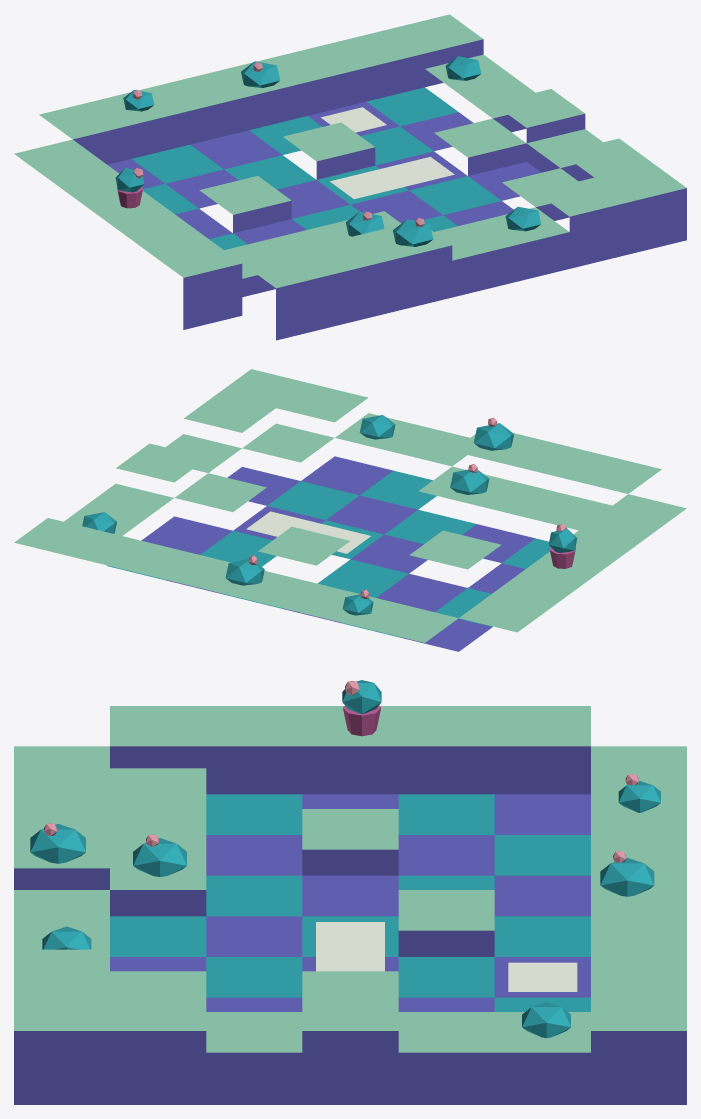
File: room4.glb
The picture shows the model from 3 angles, top to bottom: view 1: azimuth 30°, elevation 25°; view 2: azimuth 150°, elevation 25°; view 3: azimuth 270°, elevation 25°; orthographic projection. The views are drawn at different scales.
Visible parts, largest first — view 1: Room, Bush1, Bush5, Bush2, Bush6, Bush0, PotLeaf3; view 2: Room, Bush1, Bush0, Bush5, Bush6, PotLeaf3, Bush2, Bush4; view 3: Room, Bush5, Bush1, Bush0, Bush2, Bush4, Bush6, PotLeaf3, Pot3.
Boxes of the visible parts, box(x1,y1,x2,y2) form: Room: box(14, 14, 686, 340); Bush1: box(393, 219, 433, 246); Bush5: box(241, 61, 280, 87); Bush2: box(445, 56, 481, 80); Bush6: box(505, 206, 540, 231); Bush0: box(345, 211, 384, 236); PotLeaf3: box(115, 168, 143, 192); Room: box(14, 369, 686, 651); Bush1: box(473, 423, 513, 450); Bush0: box(450, 469, 489, 494); Bush5: box(225, 559, 264, 585); Bush6: box(359, 415, 395, 439); PotLeaf3: box(548, 528, 577, 552); Bush2: box(82, 512, 116, 533); Bush4: box(342, 594, 373, 615); Room: box(14, 706, 686, 1104); Bush5: box(600, 857, 654, 896); Bush1: box(30, 824, 85, 863); Bush0: box(133, 838, 186, 876); Bush2: box(522, 1002, 570, 1038); Bush4: box(618, 781, 660, 812); Bush6: box(42, 926, 91, 949); PotLeaf3: box(342, 680, 381, 713); Pot3: box(343, 705, 381, 736).
Bounding box in the file's own units: 8 × 1.45 × 7.
